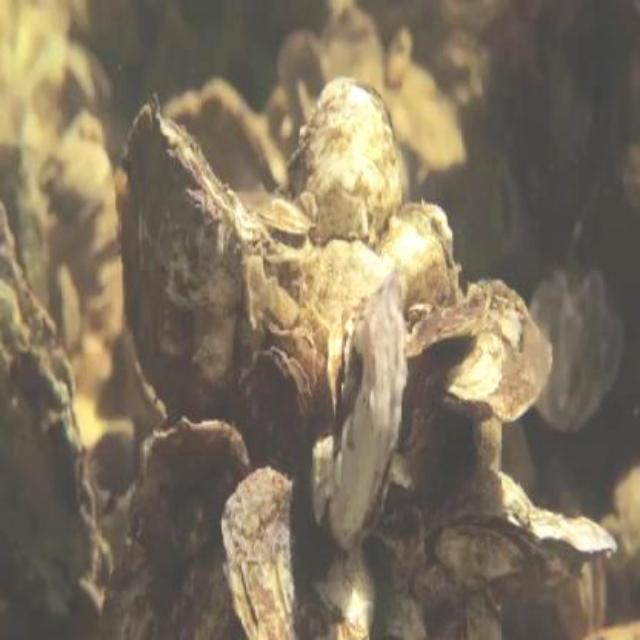Oyster-Closed: (119, 104, 303, 417), (0, 201, 109, 630), (316, 281, 409, 555), (284, 80, 402, 244), (134, 422, 250, 563), (446, 281, 552, 422), (165, 80, 282, 196), (222, 467, 296, 638), (239, 346, 314, 461), (377, 210, 451, 319), (434, 512, 539, 582), (309, 239, 385, 328), (392, 74, 464, 166), (317, 537, 377, 631), (318, 9, 385, 93), (409, 305, 479, 383), (529, 504, 618, 565), (275, 34, 329, 128), (559, 560, 606, 635), (254, 198, 309, 232), (572, 621, 638, 638)
Oyster-Open: (487, 161, 527, 265), (323, 312, 358, 413)
